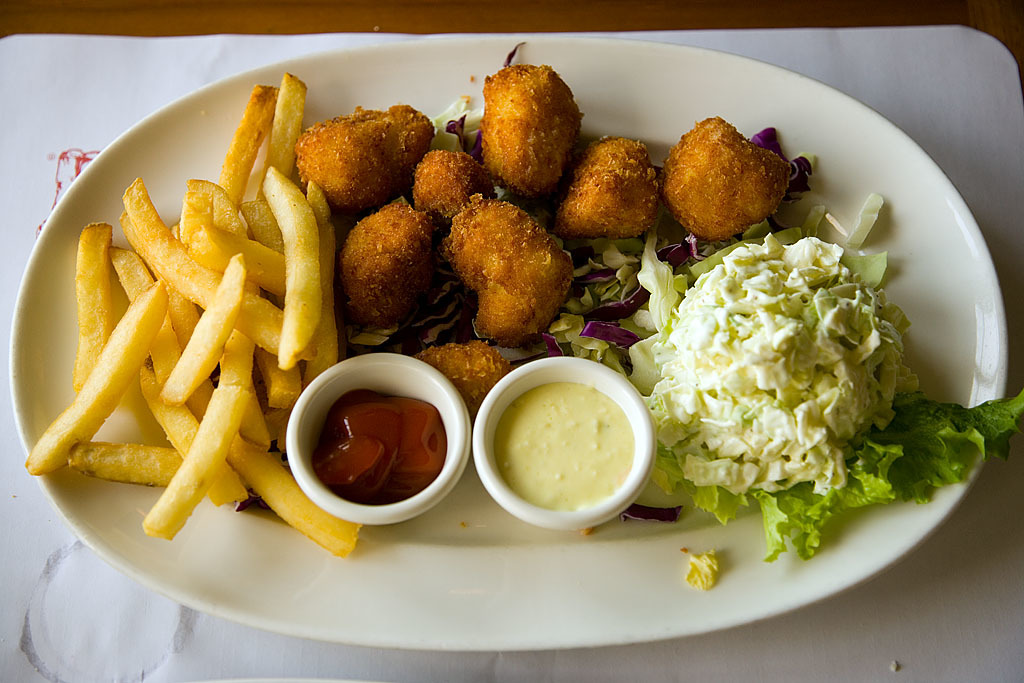French fries: (40, 110, 344, 543)
